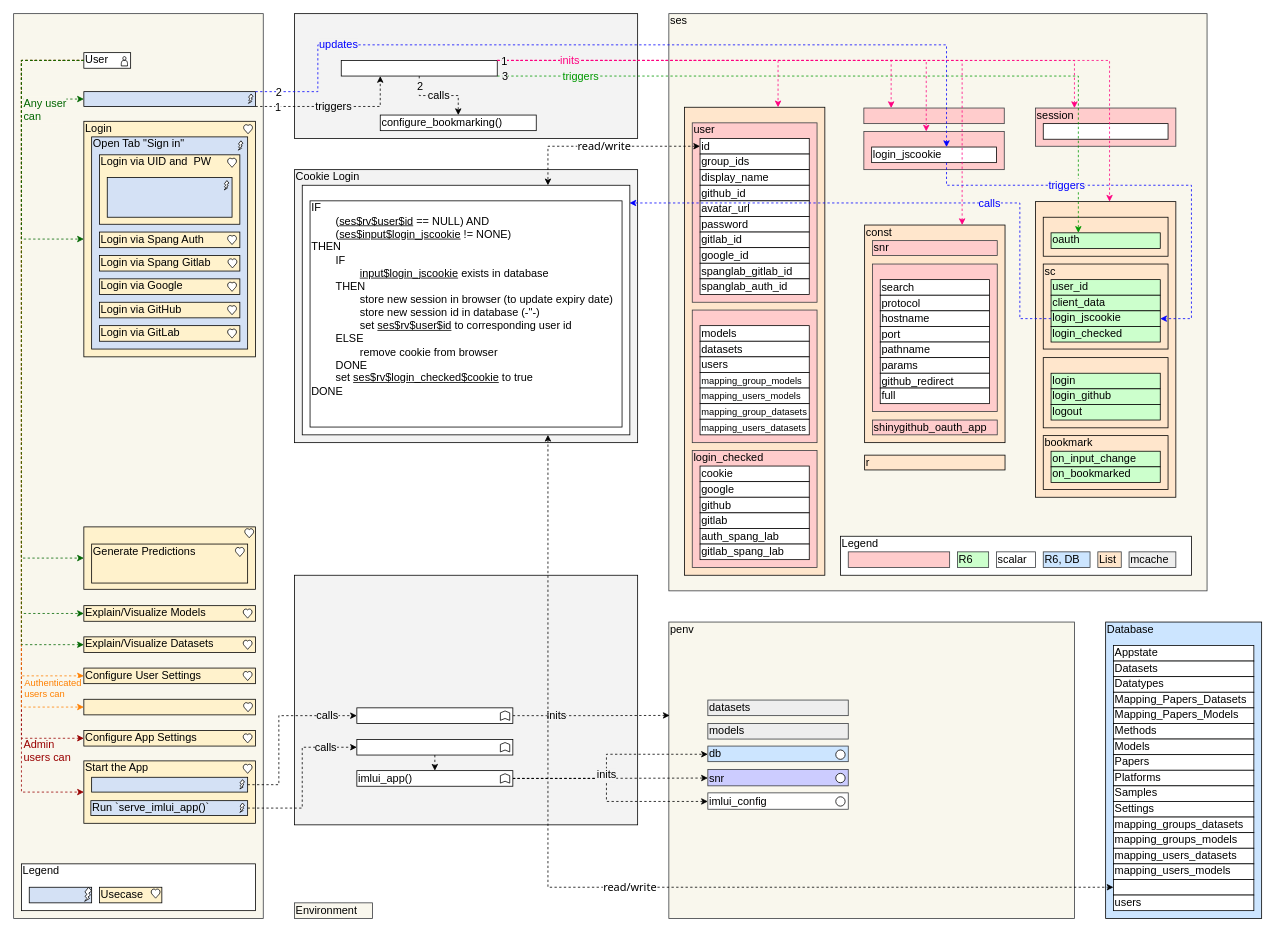
Some shapes in this 1275 by 932 pixel diagram are drawn without their labels. Here are the shapes that lost their labels. From the top down, the box of each, then its label:
(340, 60, 497, 76): server()
(294, 13, 638, 138): User Session Start
(83, 91, 255, 106): Open website in Browser
(863, 107, 1004, 124): output
(863, 131, 1004, 170): input
(1042, 123, 1168, 139): clientData
(106, 177, 232, 217): 1. Enter UID or Email 2. Enter Password 3. Click "Sign in"
(1042, 216, 1168, 256): su
(301, 184, 630, 435): hndl_sc_login_cookie
(684, 106, 825, 575): rv
(872, 263, 997, 411): url
(1035, 201, 1176, 497): hndl
(691, 309, 817, 443): tbl
(1042, 357, 1168, 428): btn
(13, 13, 263, 918): Usecases and Actions
(83, 526, 255, 589): Explain/Visualize Predictions
(847, 551, 950, 567): R6, ReactiveValues
(83, 698, 255, 715): Upload new Data
(356, 707, 513, 723): .onLoad()
(294, 574, 638, 825): Application Start
(356, 739, 513, 755): serve_imlui_app()
(91, 776, 248, 792): Run `devtools::load_all()`
(28, 886, 92, 903): Action
(1113, 879, 1254, 895): mapping_users_sessions
